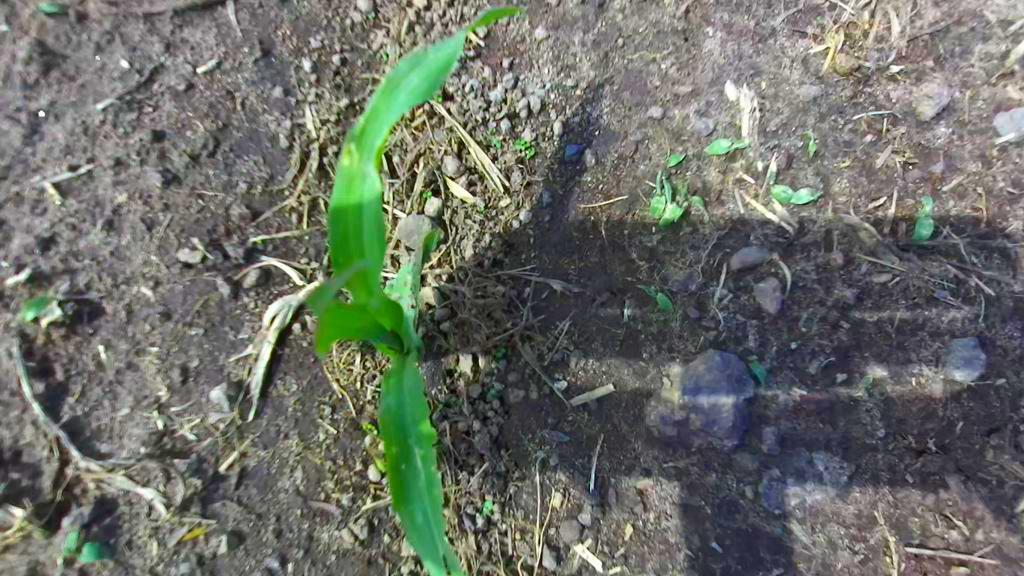BroWeed: (1, 278, 71, 331), (36, 277, 80, 337), (632, 275, 679, 318), (911, 194, 940, 244), (179, 515, 218, 551), (839, 371, 879, 406), (769, 182, 824, 207), (647, 170, 673, 220), (61, 542, 113, 565), (794, 126, 824, 162), (659, 178, 679, 230), (60, 505, 81, 553), (748, 356, 775, 388), (862, 354, 892, 382), (366, 442, 390, 475), (662, 145, 691, 170), (671, 198, 691, 224), (704, 137, 732, 154), (358, 418, 381, 438), (37, 0, 69, 13), (728, 136, 747, 157), (53, 553, 65, 576), (76, 526, 87, 547), (376, 48, 390, 64), (482, 499, 494, 516), (494, 345, 507, 360), (0, 15, 11, 32), (525, 146, 537, 161), (744, 353, 758, 363), (491, 137, 502, 149), (421, 189, 433, 199), (431, 93, 443, 103), (521, 141, 531, 152), (375, 53, 382, 62), (515, 139, 525, 145), (515, 144, 523, 148)
